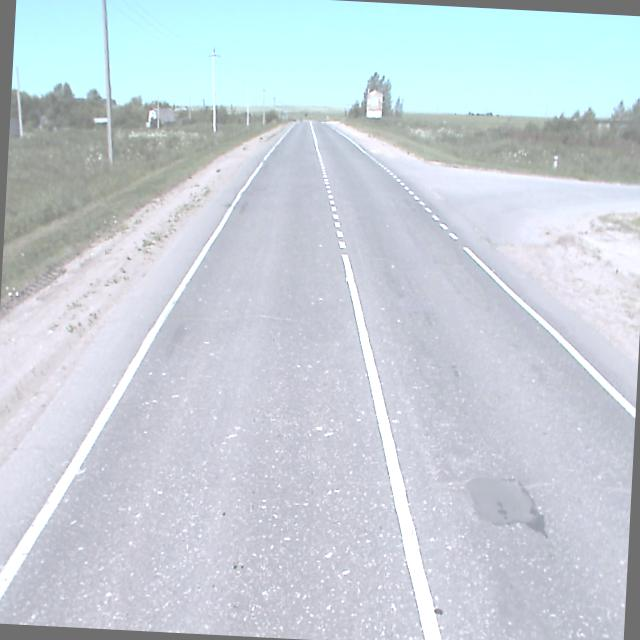road: (0, 119, 640, 640)
